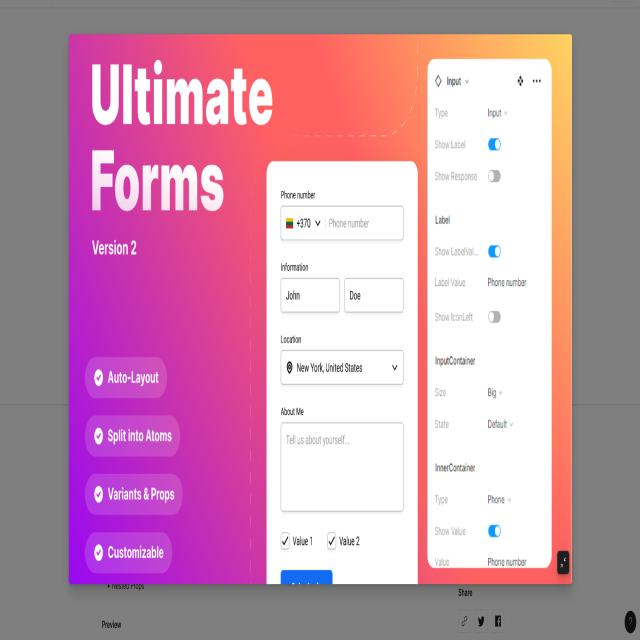button: (279, 566, 334, 589), (556, 550, 570, 577), (530, 71, 544, 90), (515, 72, 526, 91)
checkbox: (323, 528, 361, 553), (278, 527, 314, 551)
dropdown: (283, 353, 403, 381), (281, 206, 325, 238), (486, 416, 516, 432), (446, 73, 472, 91), (486, 490, 513, 507), (485, 103, 509, 120), (486, 381, 506, 401)
input field: (279, 419, 405, 517), (326, 198, 406, 245), (342, 275, 406, 318), (278, 276, 342, 316)
radio: (89, 360, 162, 396), (92, 481, 180, 508), (436, 130, 503, 157), (93, 541, 165, 565), (92, 426, 174, 446), (433, 166, 504, 188), (434, 242, 504, 260), (436, 524, 503, 541)
text: (88, 58, 278, 132), (87, 145, 228, 217), (108, 484, 176, 505), (88, 233, 140, 260), (106, 365, 160, 388), (108, 427, 174, 444), (105, 544, 167, 562), (297, 361, 365, 377), (434, 520, 467, 544), (487, 275, 528, 293), (277, 186, 318, 203), (434, 309, 474, 326), (486, 552, 528, 568), (433, 138, 472, 154), (431, 170, 479, 183), (434, 245, 479, 258), (434, 461, 478, 474), (432, 276, 468, 291), (435, 353, 478, 365), (278, 260, 310, 274), (279, 329, 305, 346), (280, 403, 306, 420), (434, 105, 450, 121), (435, 494, 451, 509), (435, 555, 451, 569), (433, 417, 450, 430), (434, 387, 447, 399)
